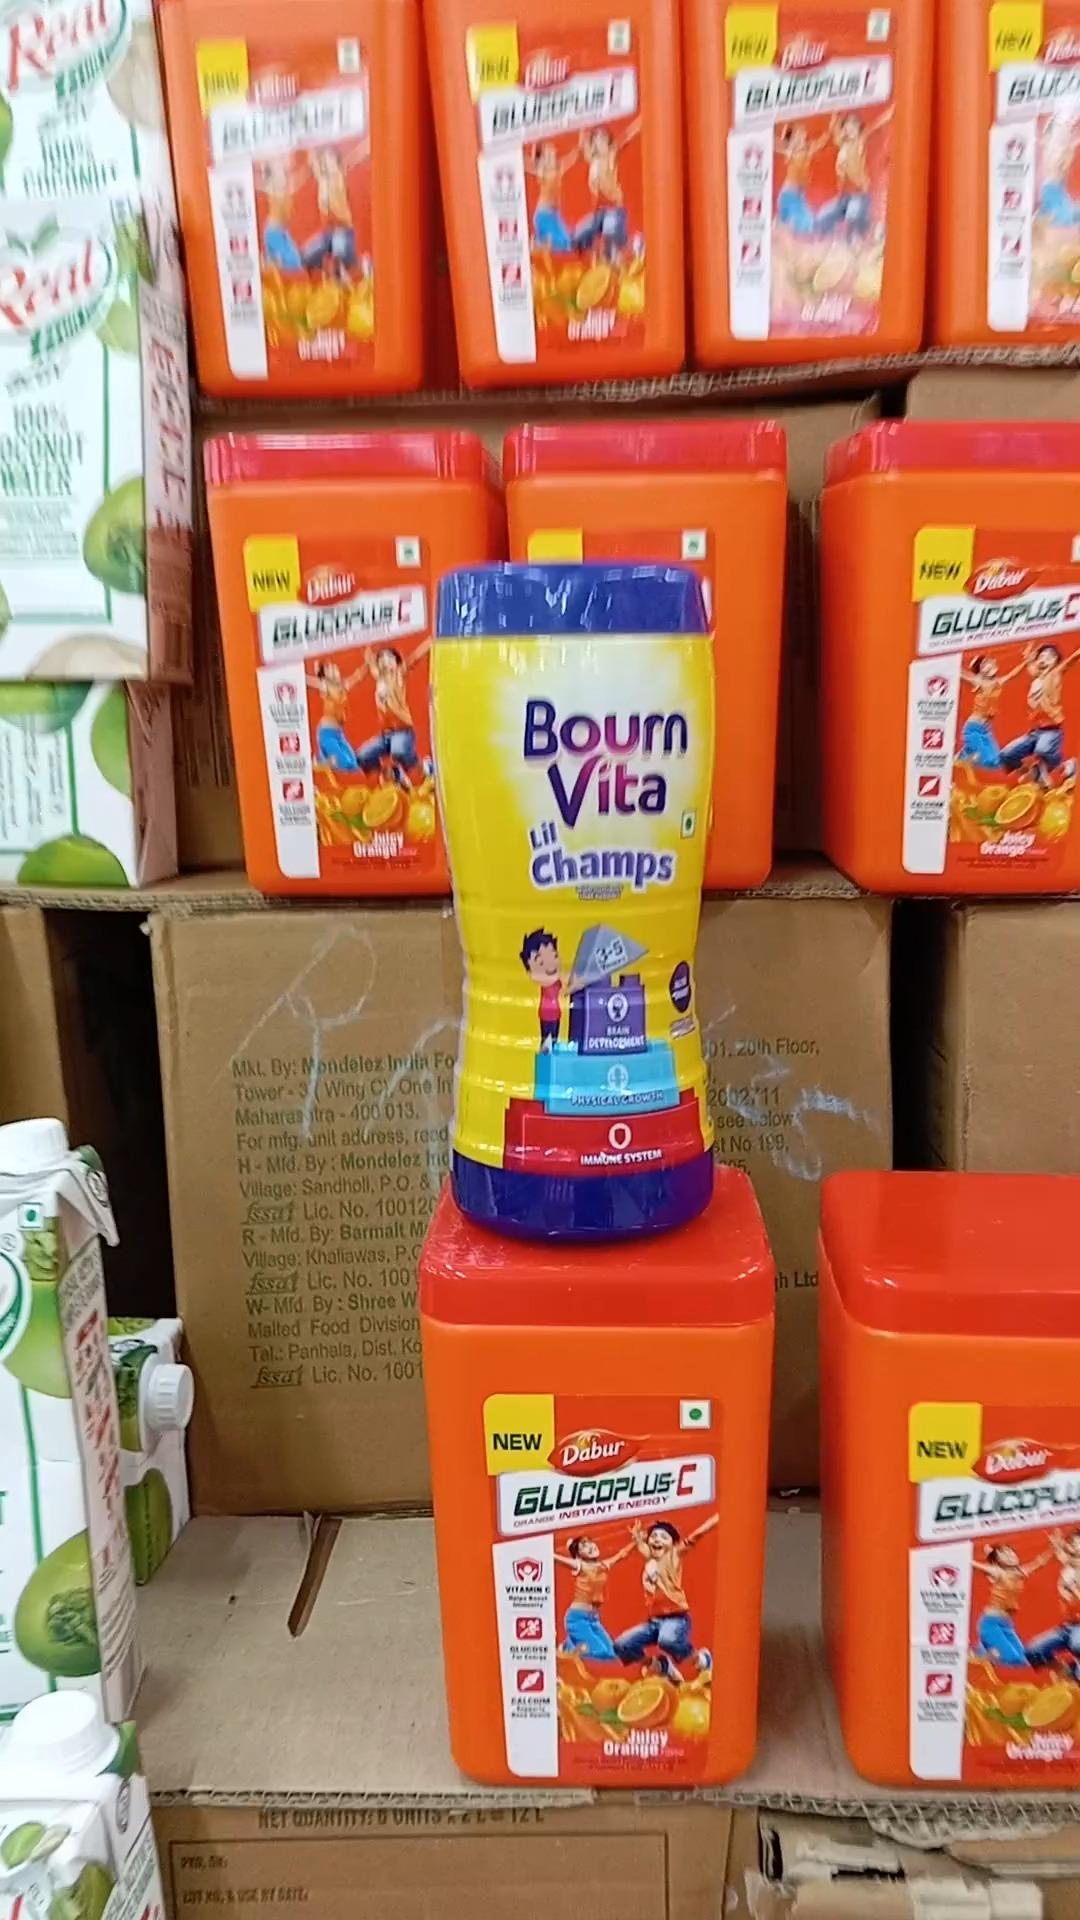BOURN_VITA_CHAMPS_500_G_JAR: (433, 562, 715, 1247)
